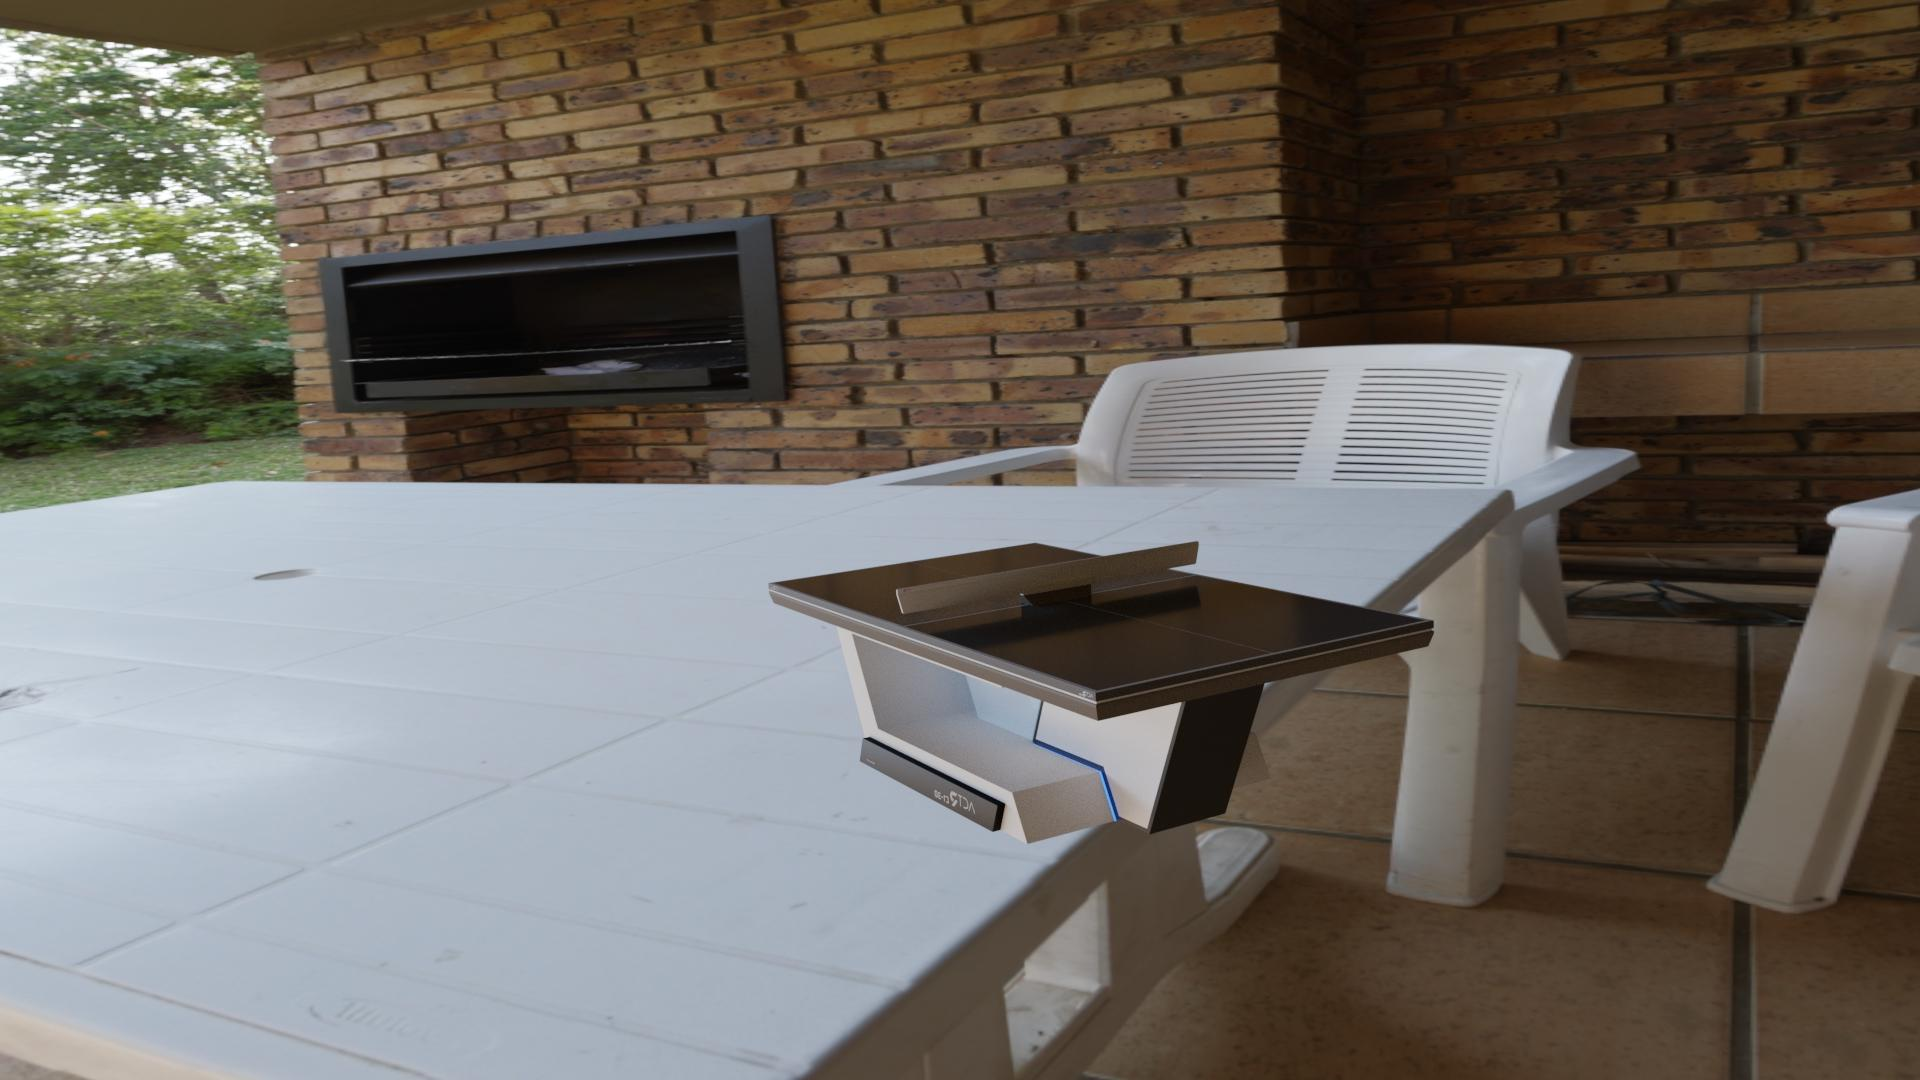table: (774, 543, 1425, 691)
